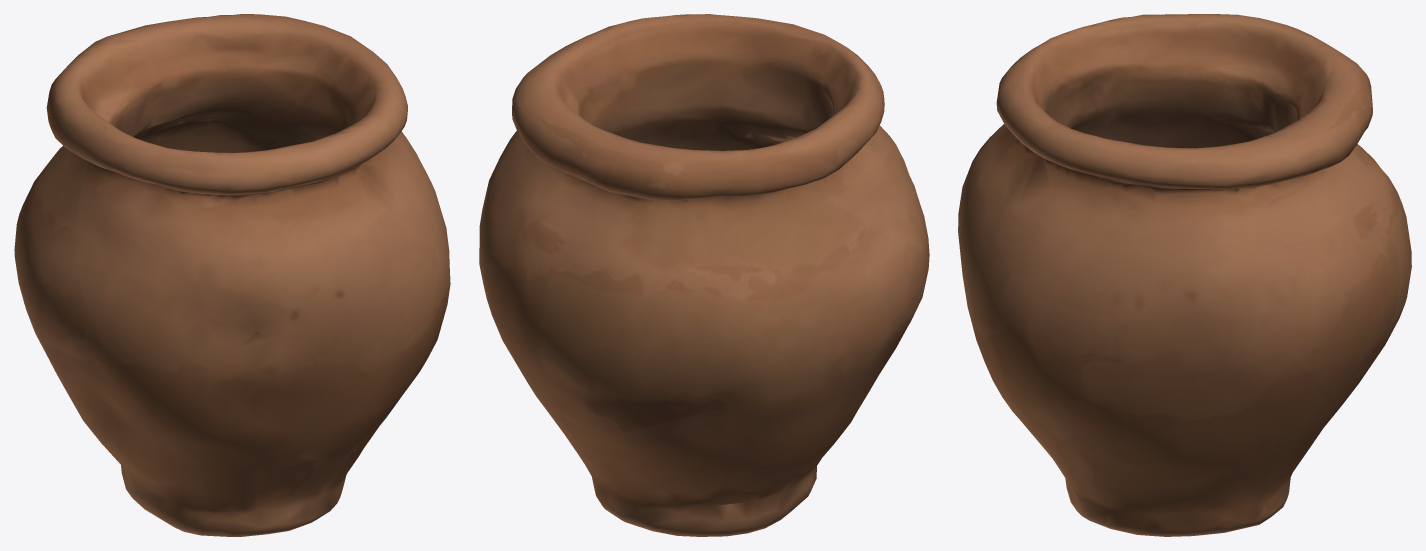
The model's file is PotRound.glb.
3 views of the same model, side by side, from view 1: azimuth 30°, elevation 25°; view 2: azimuth 150°, elevation 25°; view 3: azimuth 270°, elevation 25° (orthographic).
Parts seen in each view (by area): view 1: PotRound; view 2: PotRound; view 3: PotRound.
Part boxes in pixels (box(x1,y1,x2,y2)): PotRound: box(14, 14, 450, 536); PotRound: box(479, 14, 929, 536); PotRound: box(958, 14, 1411, 536).
Size of the model in its own units: 0.3863 by 0.4083 by 0.3942.
1 material, 1 textured.
